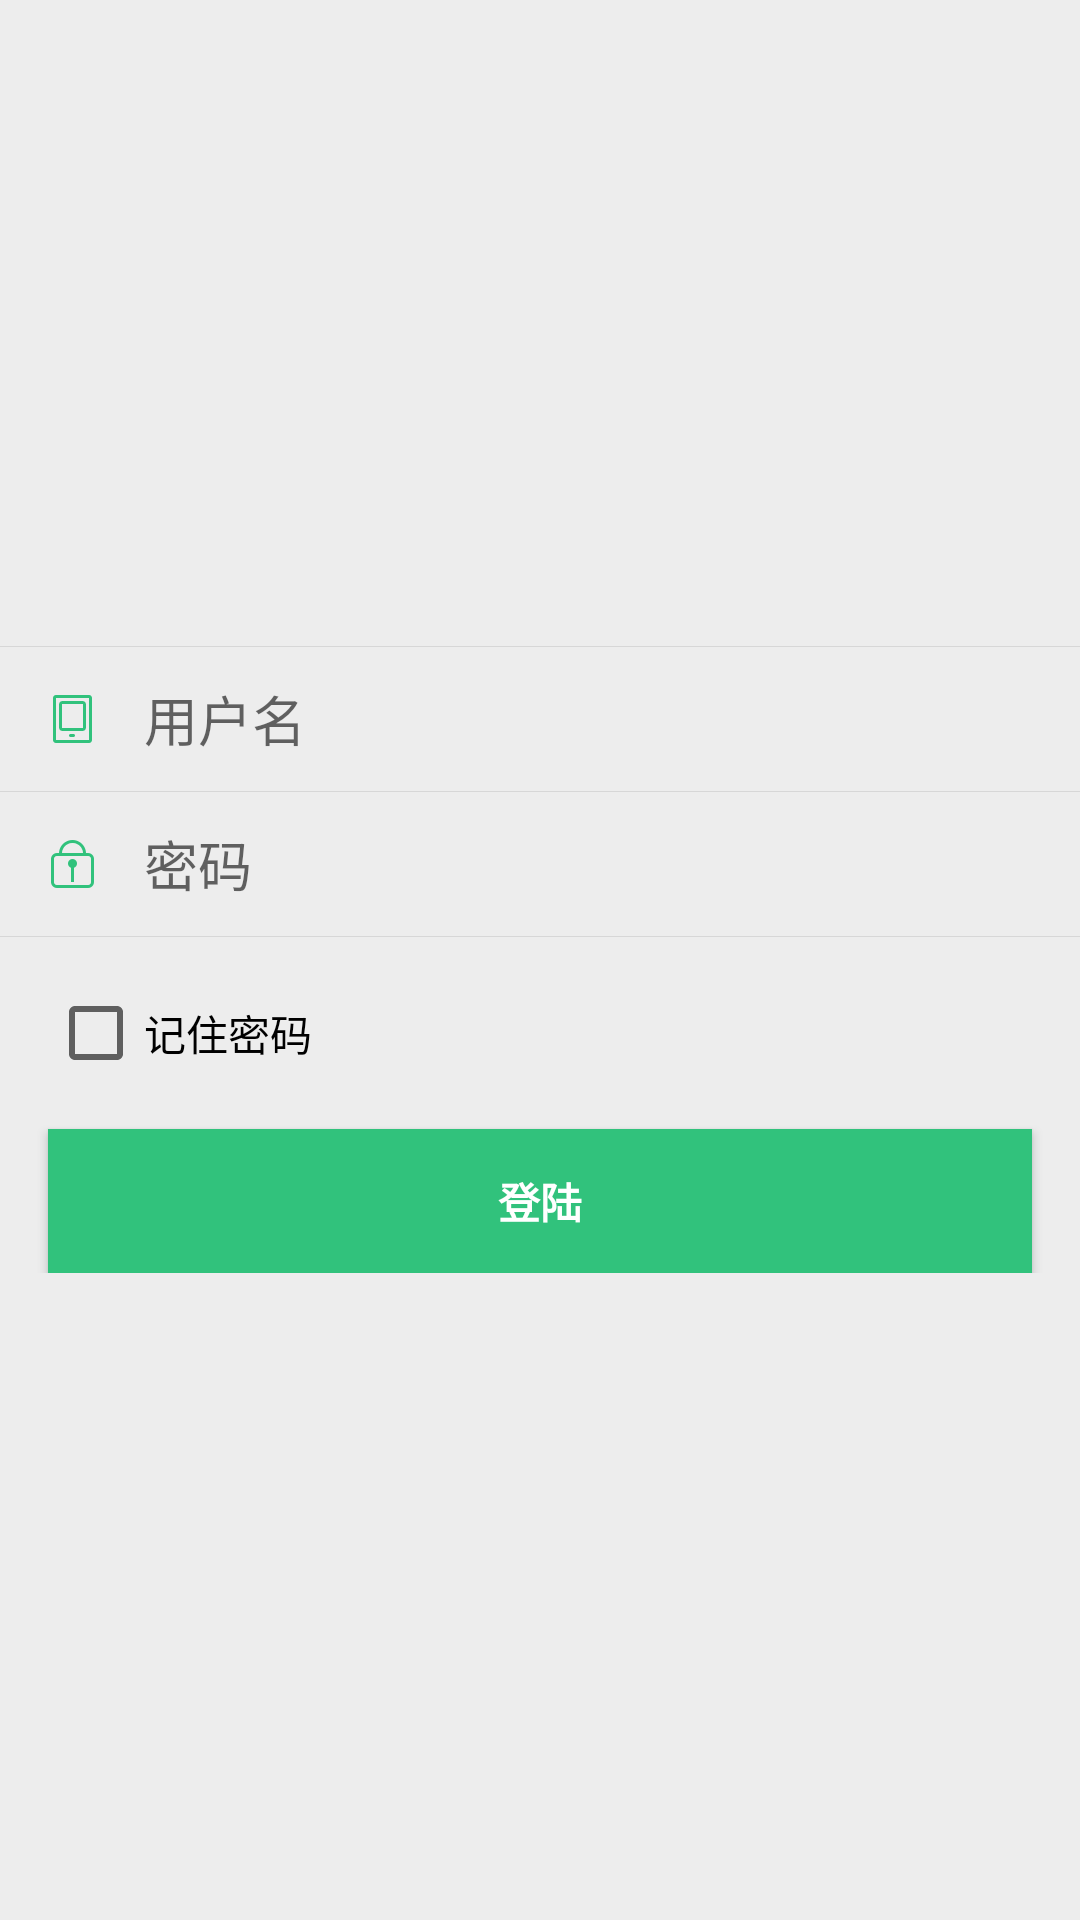

Where to tap for icons on this 1080w x 1920h app screen, as point (x, y):
login name: point (72, 719)
login password: point (72, 864)
